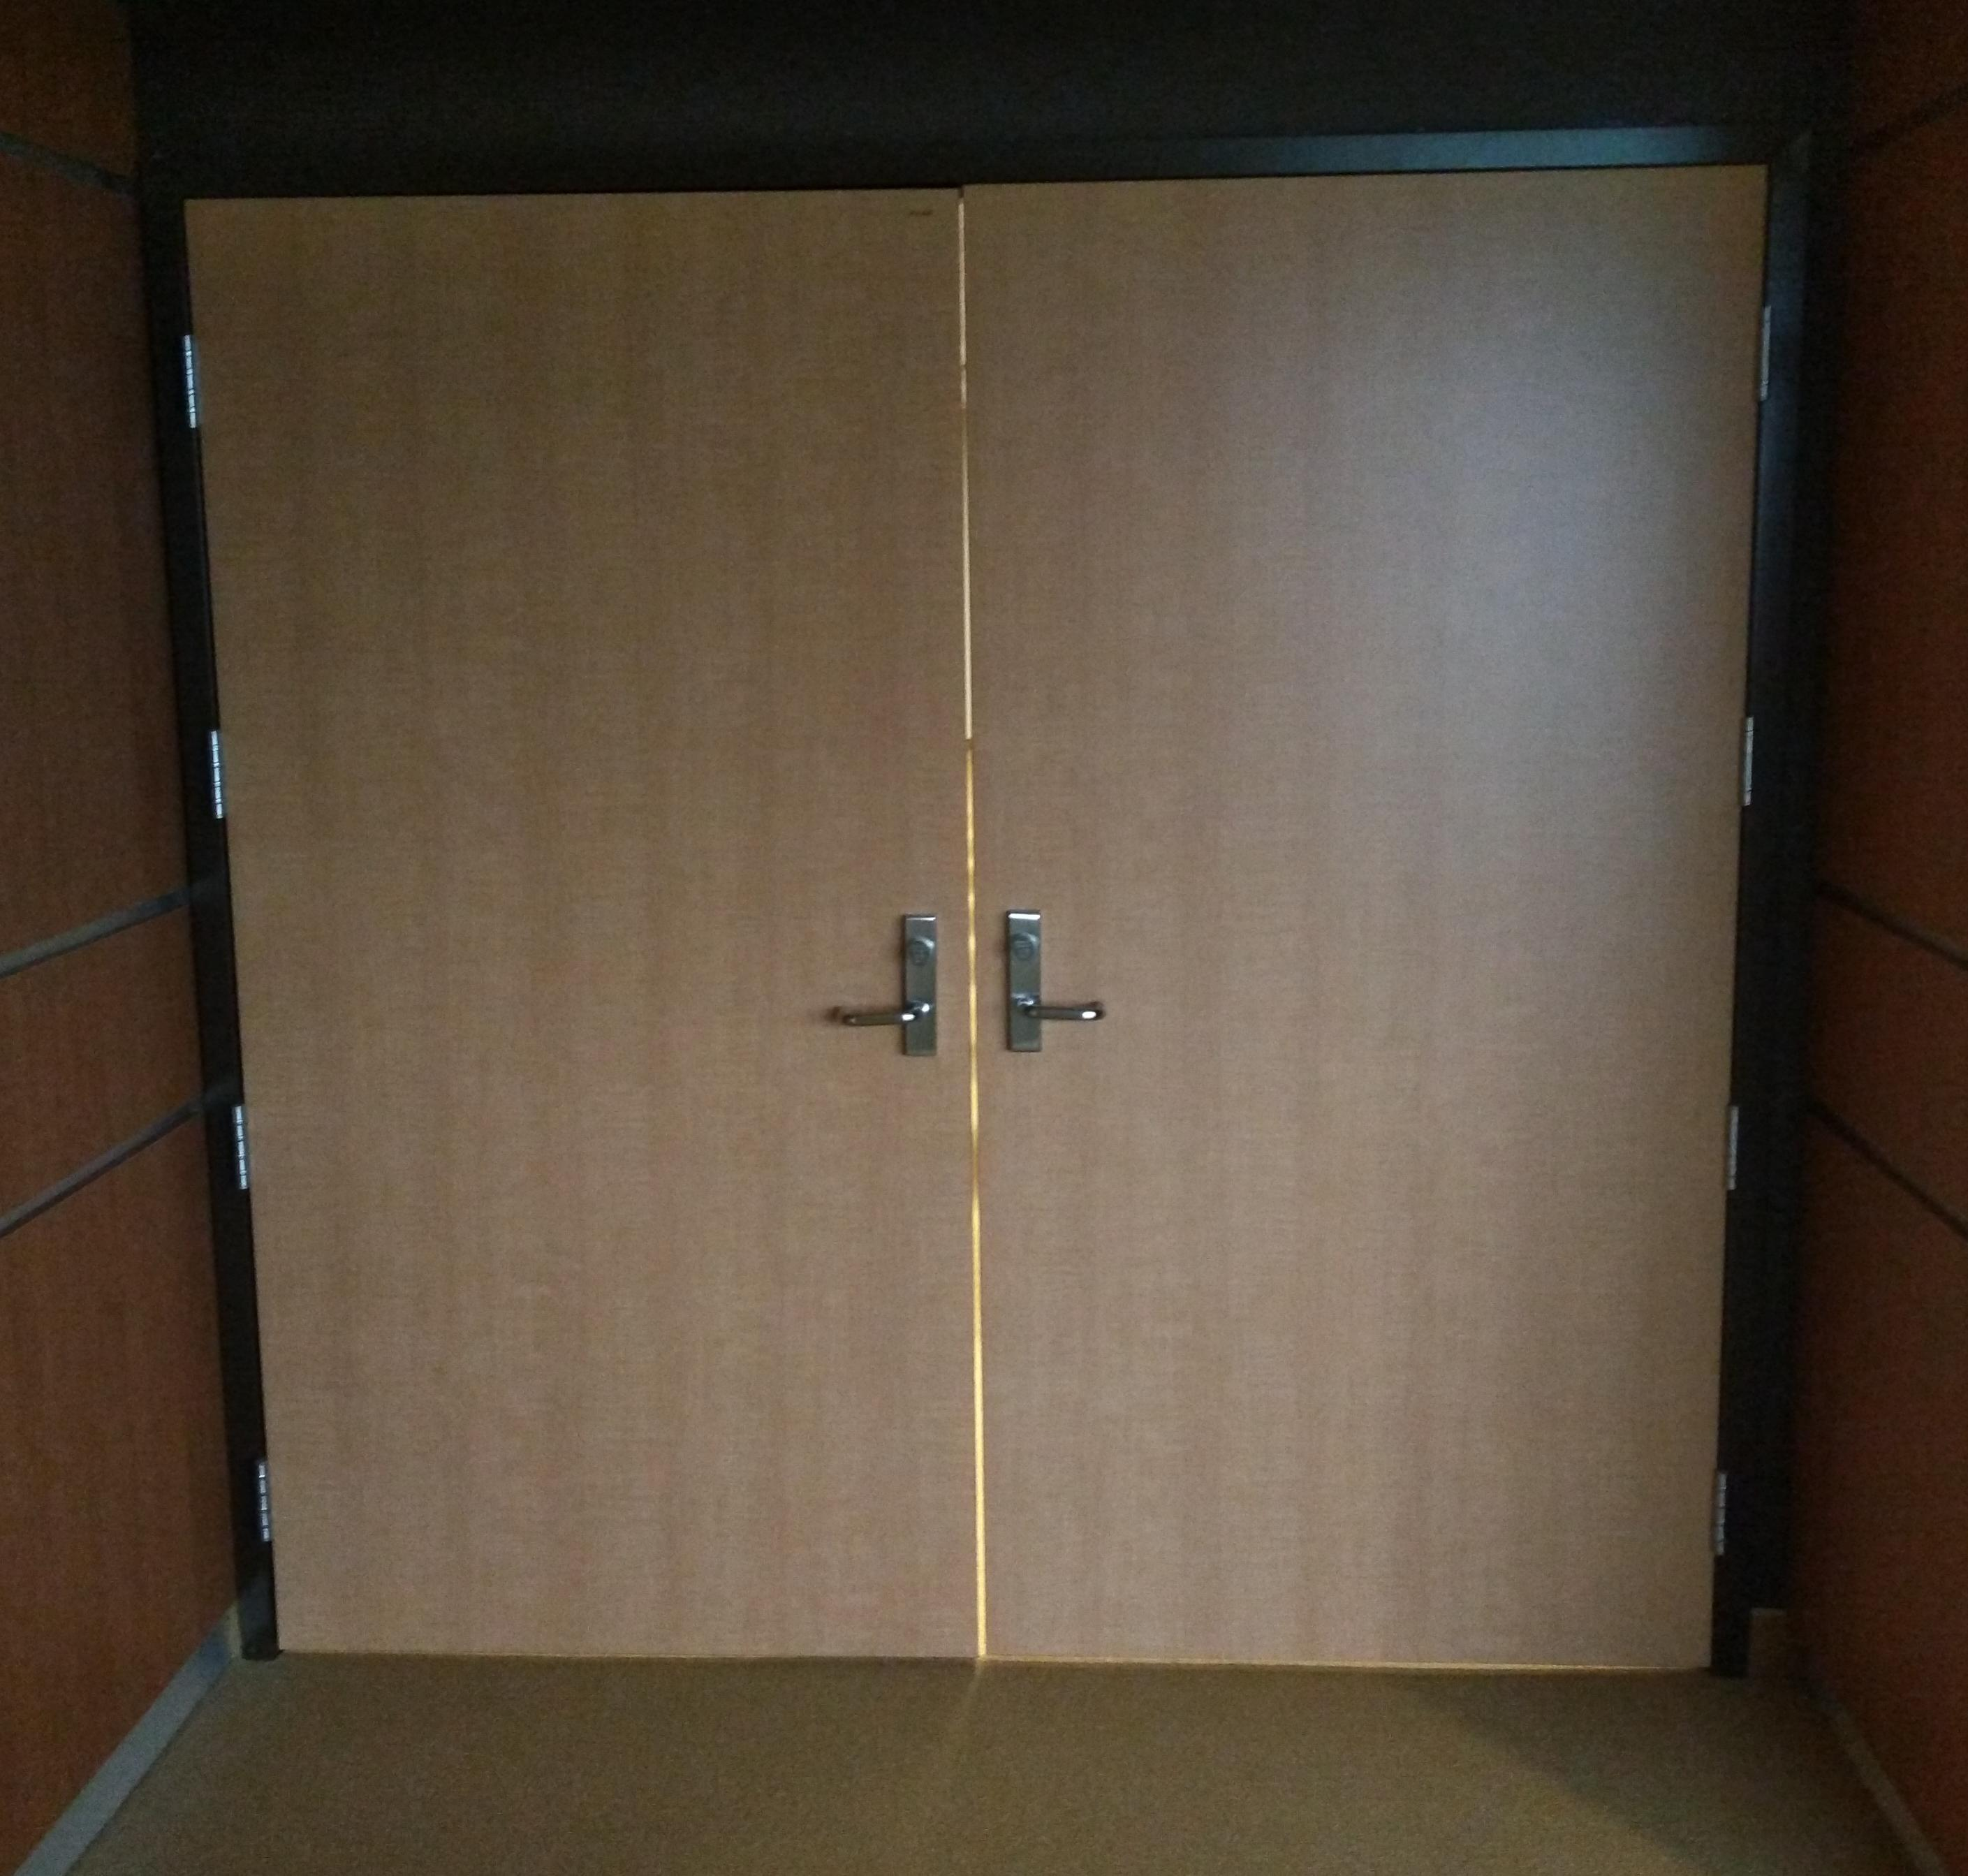door: (162, 170, 1747, 1683)
